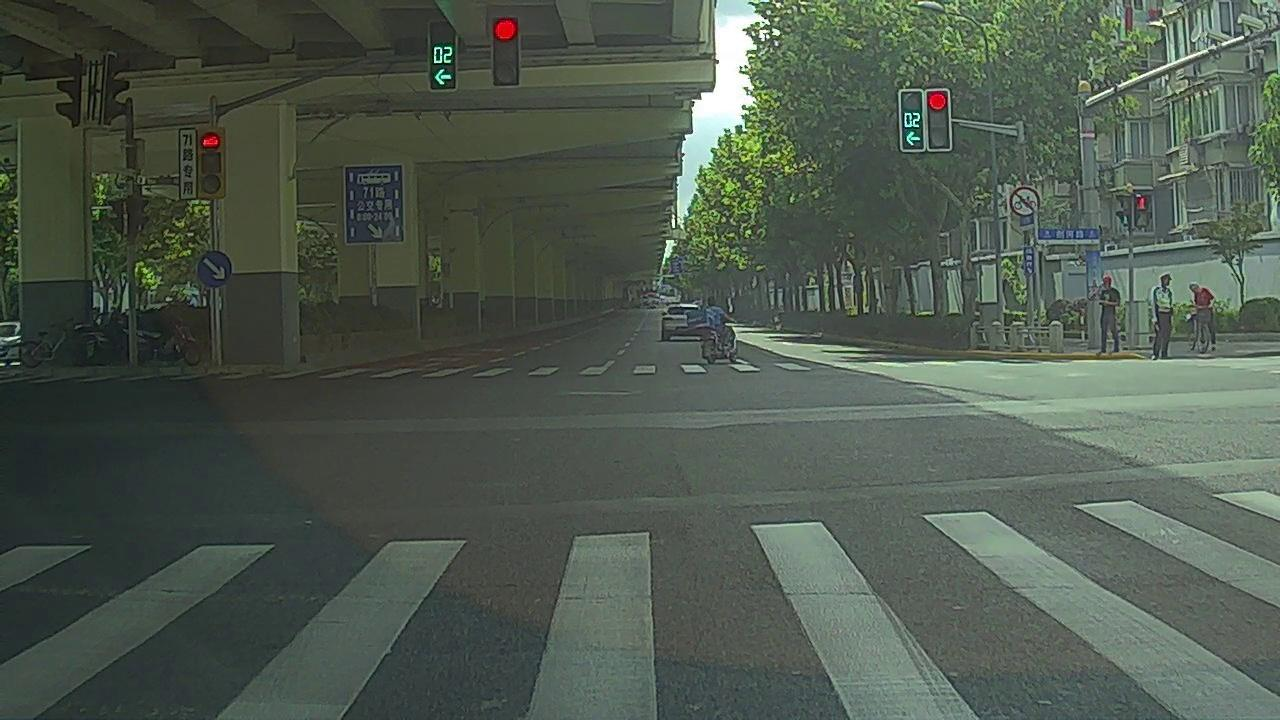traffic_light: (428, 22, 456, 89), (493, 18, 520, 85), (900, 90, 924, 150), (926, 91, 950, 150)
